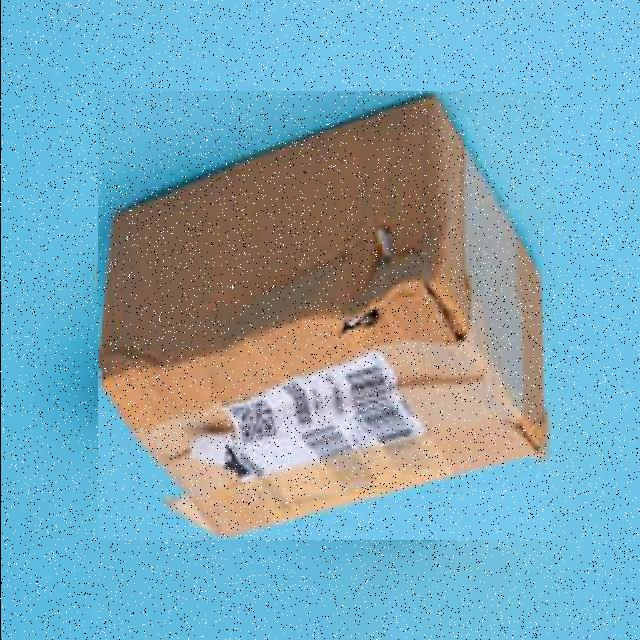defect: (97, 91, 551, 540)
